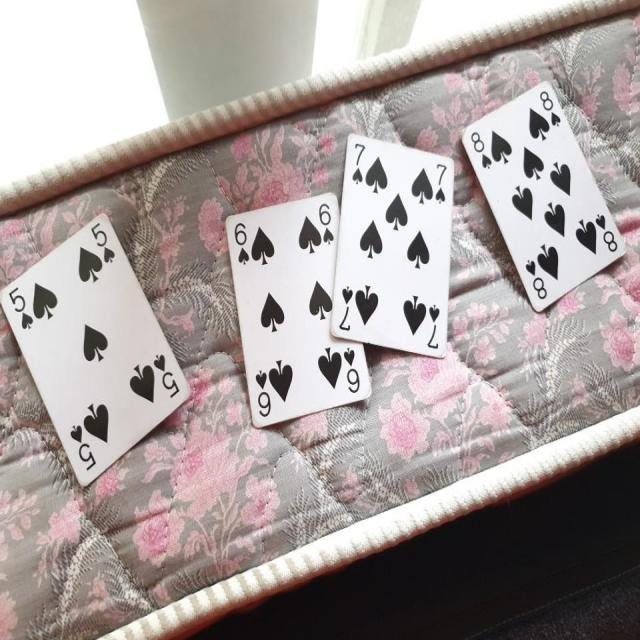5 Spades: (1, 201, 192, 503)
6 Spades: (212, 192, 374, 435)
7 Spades: (331, 125, 459, 367)
8 Spades: (453, 82, 628, 311)
